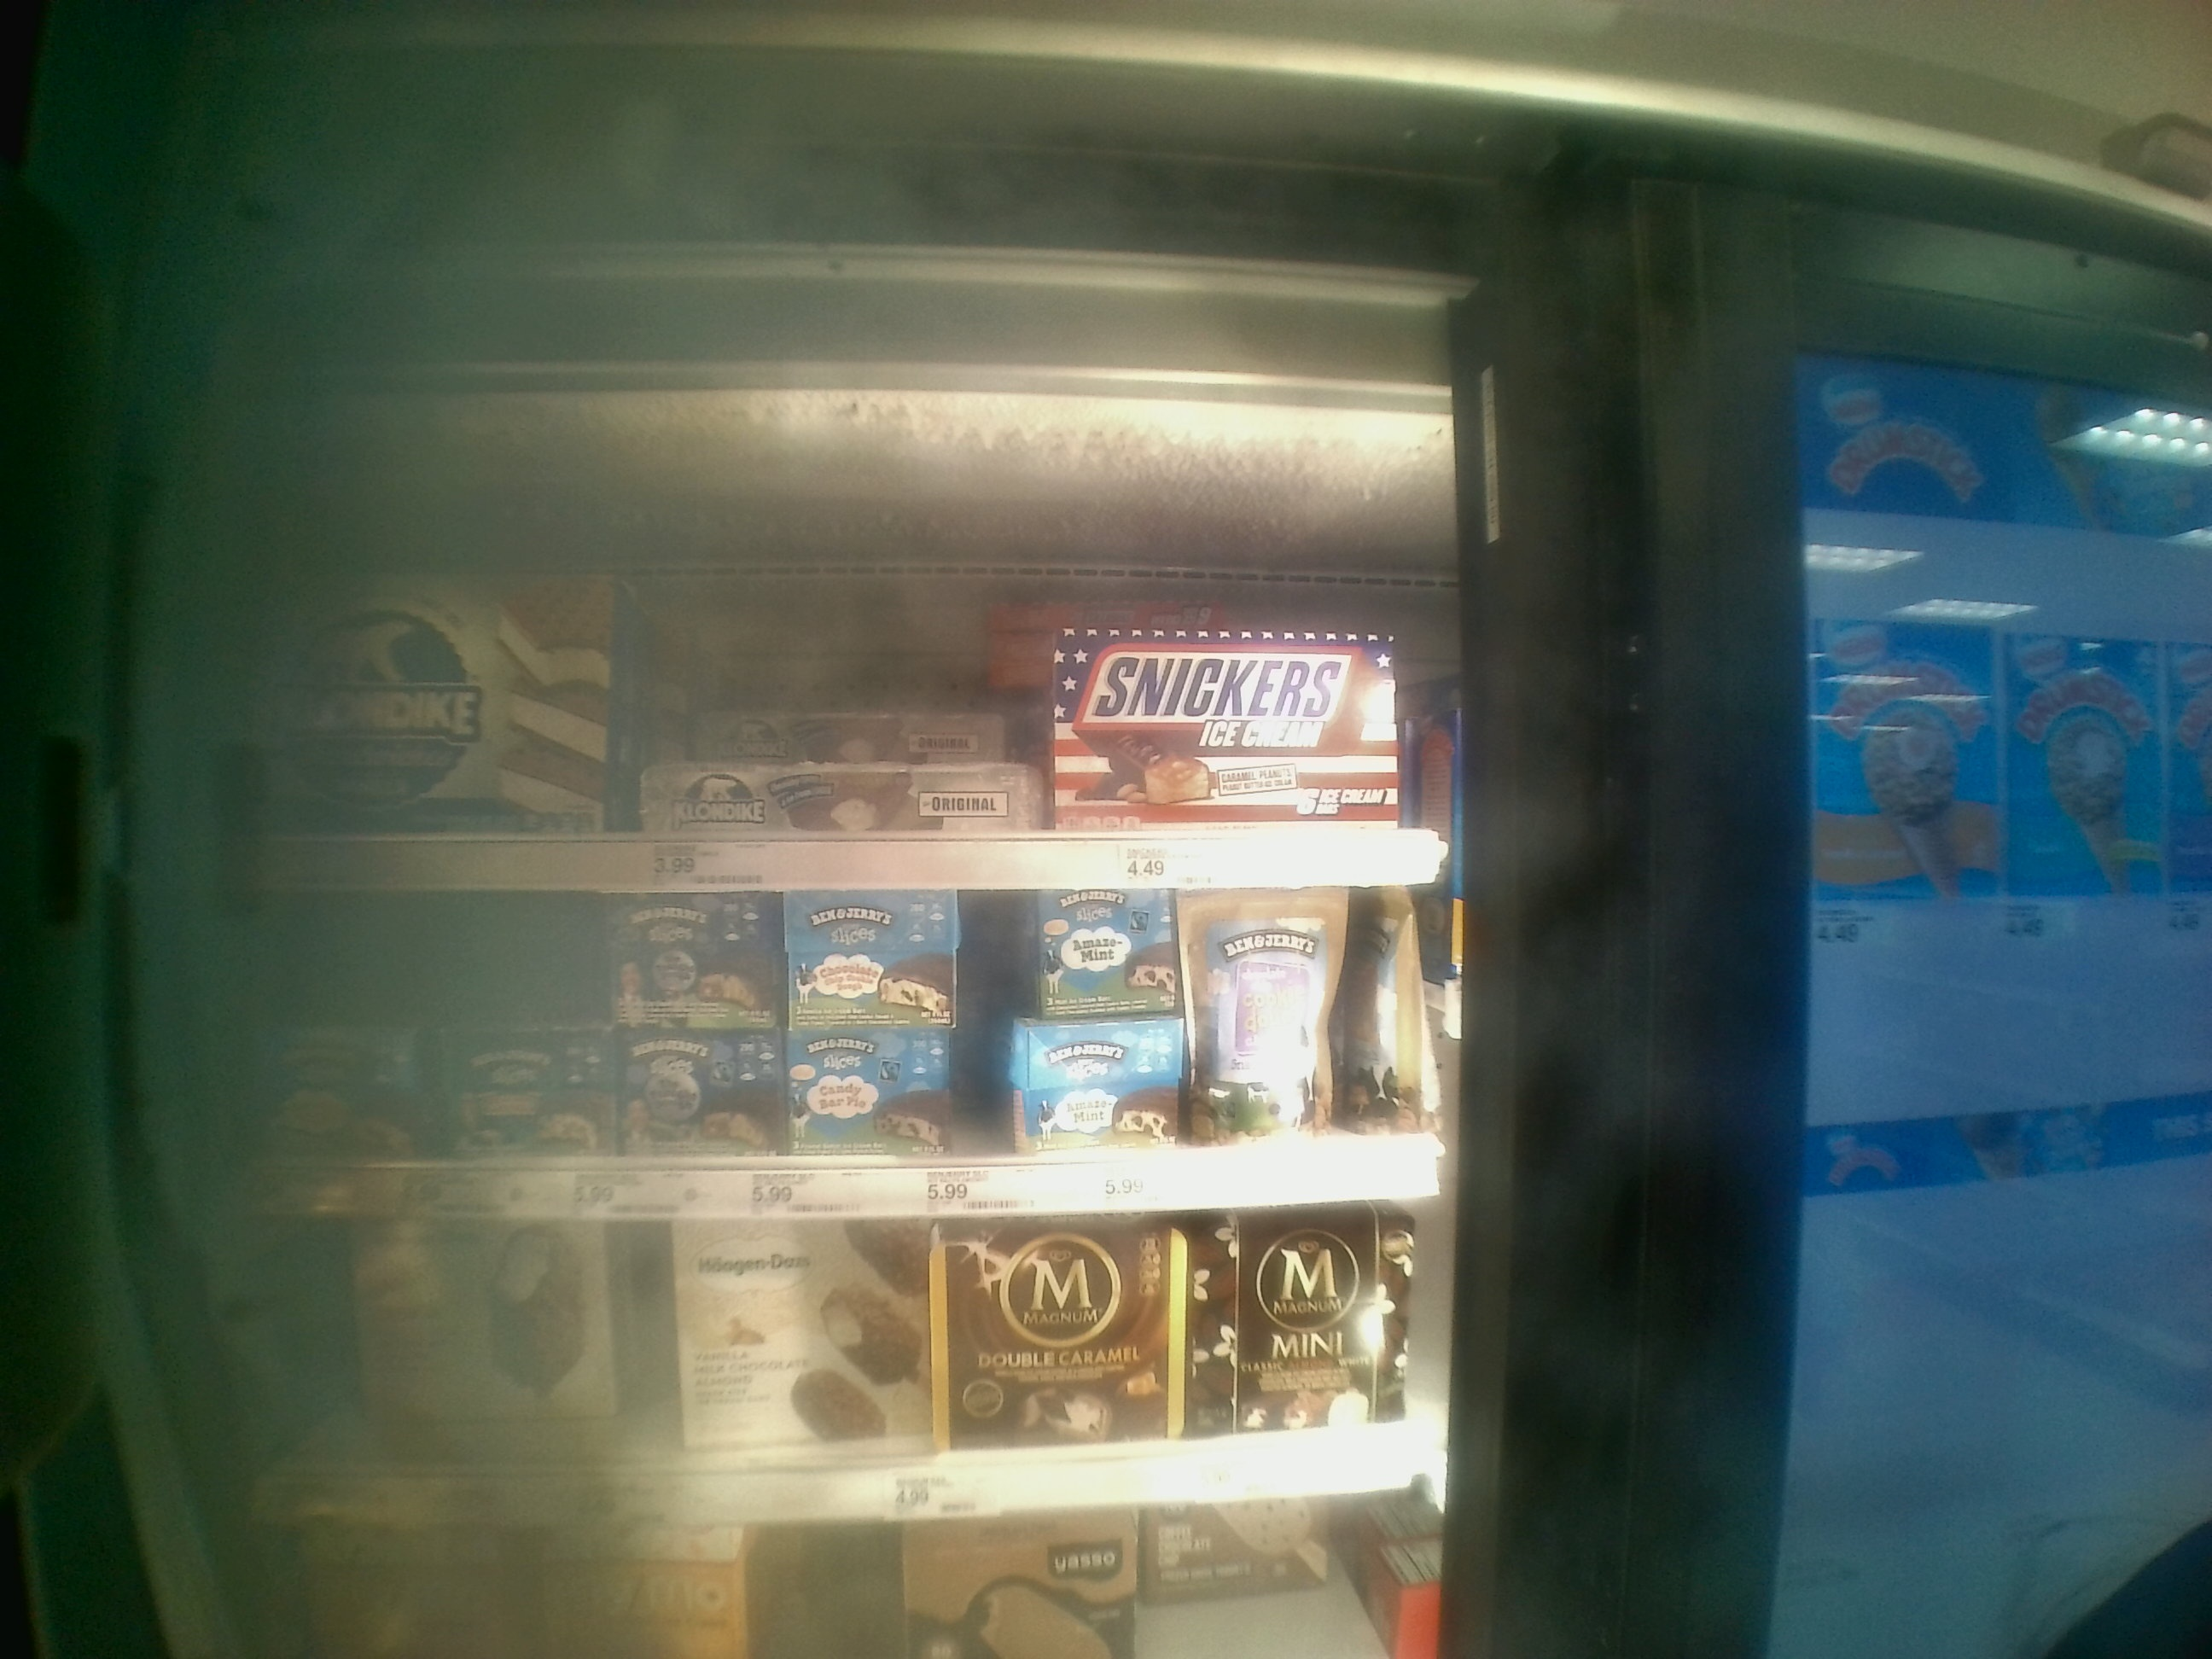ice-cream-shelf: (199, 476, 1453, 899), (190, 894, 1447, 1211)
